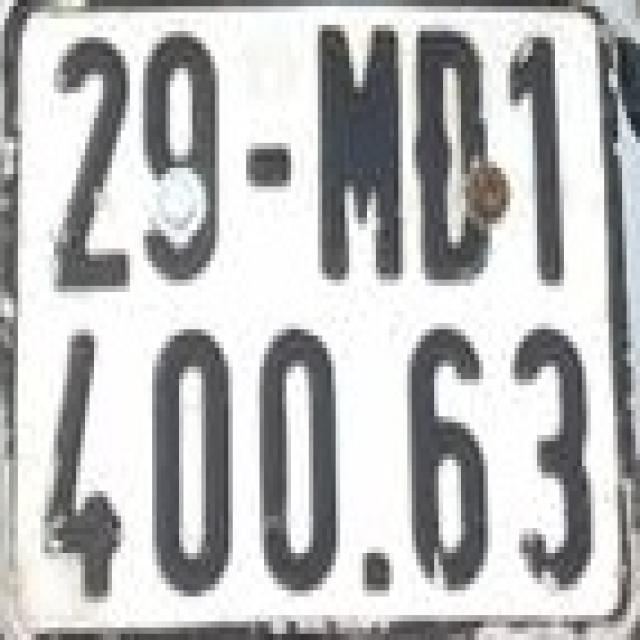0: (143, 323, 237, 597), (255, 320, 345, 593)
1: (508, 34, 575, 283)
2: (45, 31, 134, 298)
3: (510, 320, 595, 587)
4: (38, 326, 128, 600)
6: (403, 323, 492, 590)
9: (139, 28, 224, 283)
D: (410, 28, 494, 283)
M: (309, 16, 407, 282)
